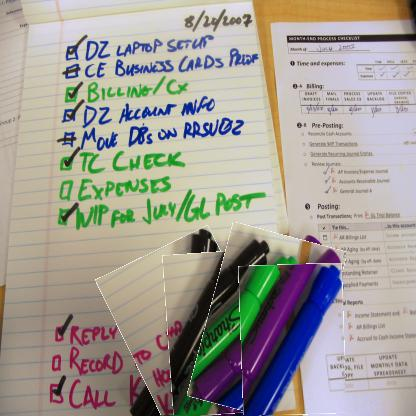Pen: (110, 234, 267, 415), (198, 228, 338, 415), (165, 250, 286, 415), (240, 264, 345, 416)
